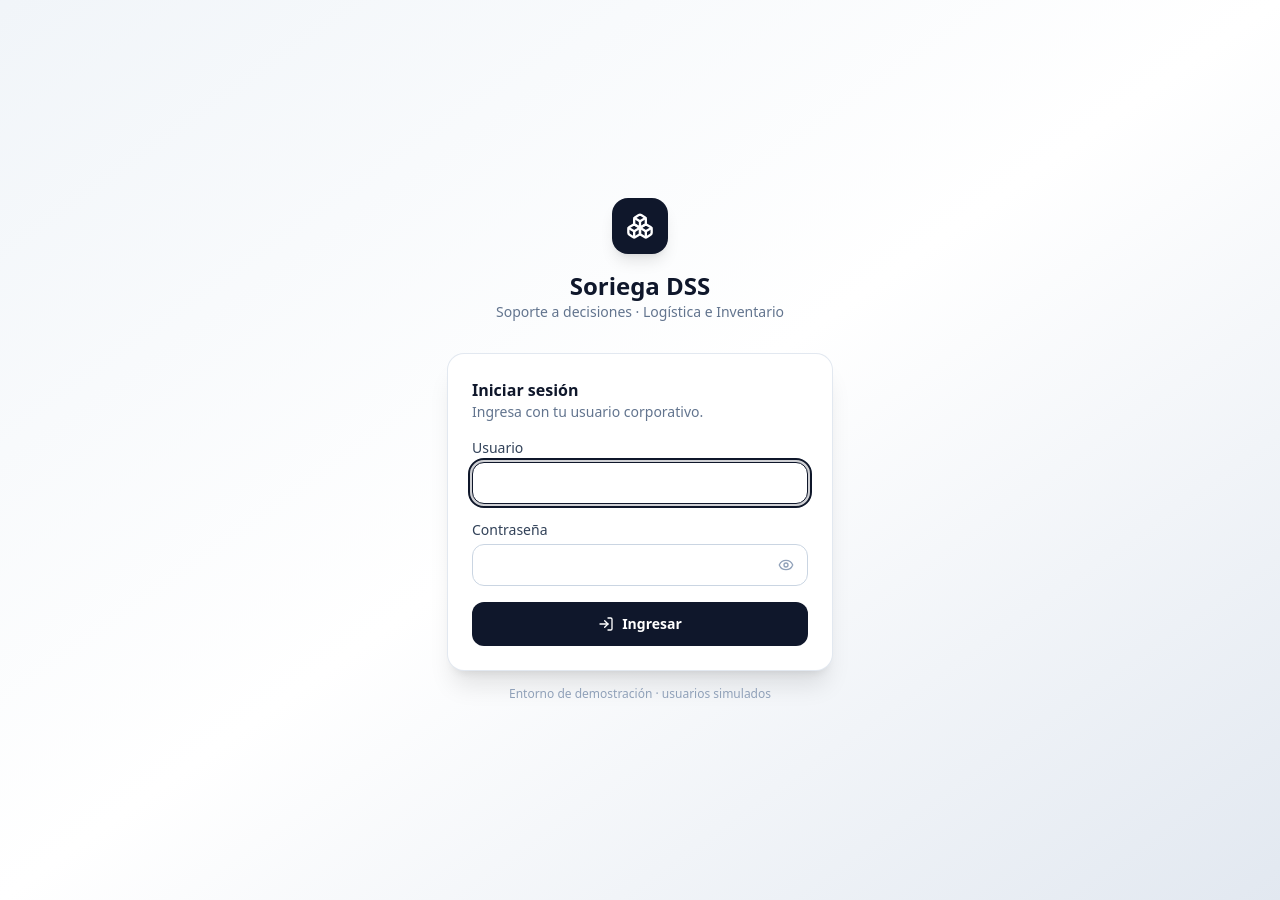
Test: Inicio de sesión › rechaza credenciales incorrectas con un mensaje que no revela si el usuario existe
The image size is (1280, 900).
In the field labelled "Usuario": x=640, y=483 [472,462,808,504], type "gerente"
In the password field labelled "Contraseña": x=640, y=565 [472,544,808,586], type "mala"
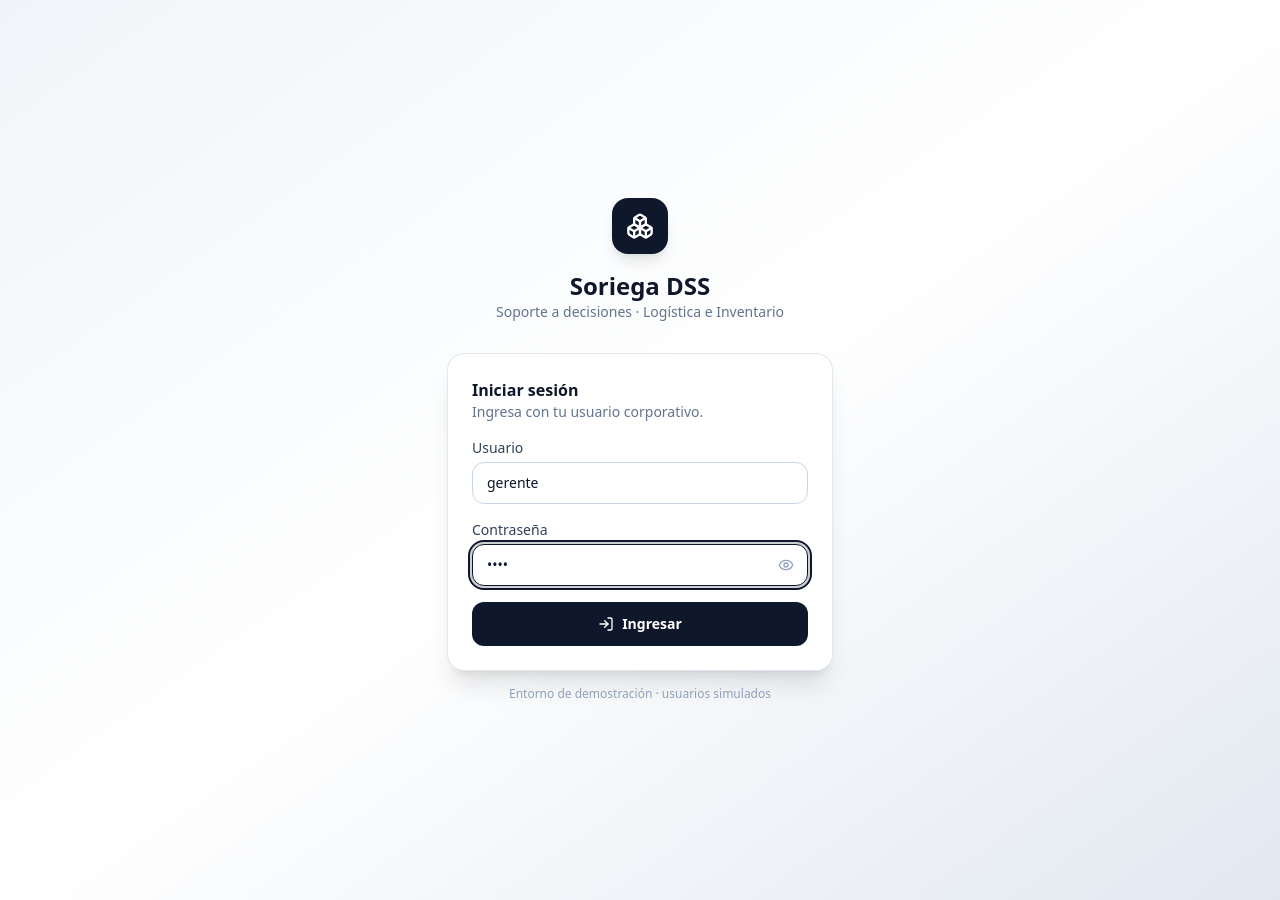
Click the button "Ingresar": x=640, y=624 [472,602,808,646]
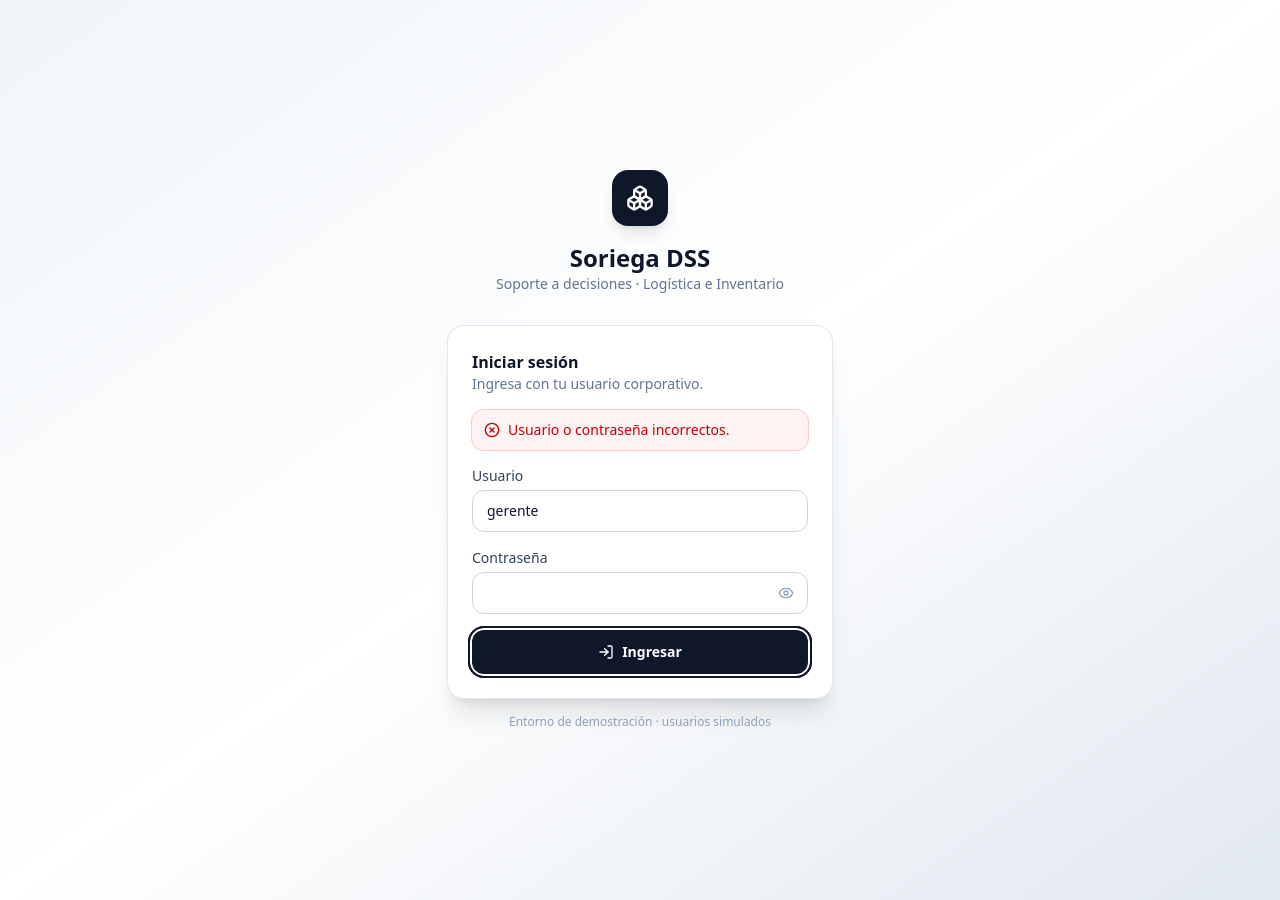
Expected: the message reads "Usuario o contraseña incorrectos.", [508,420,729,439]
Clear the field labelled "Usuario": x=640, y=511 [472,490,808,532]
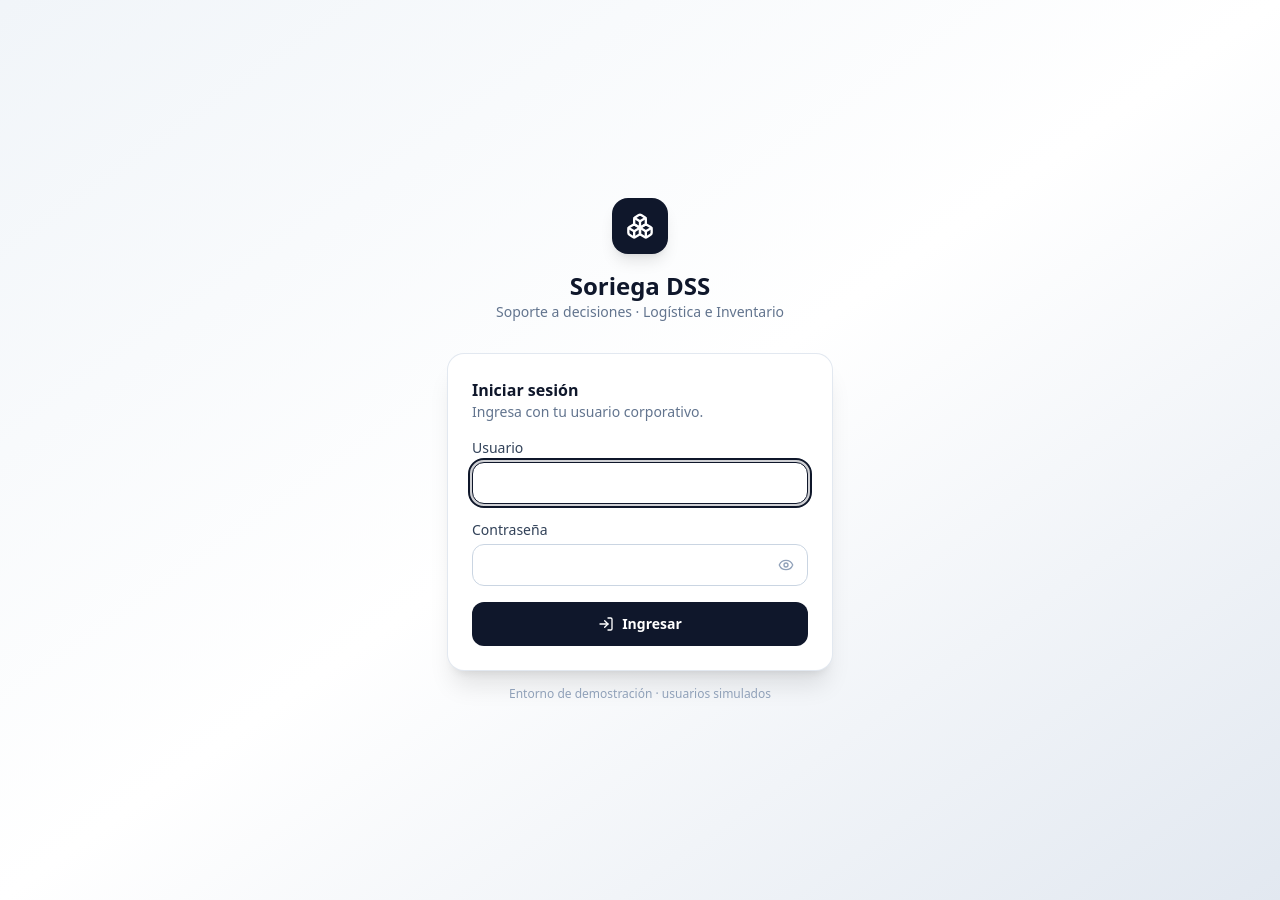
In the field labelled "Usuario": x=640, y=483 [472,462,808,504], type "nadie"
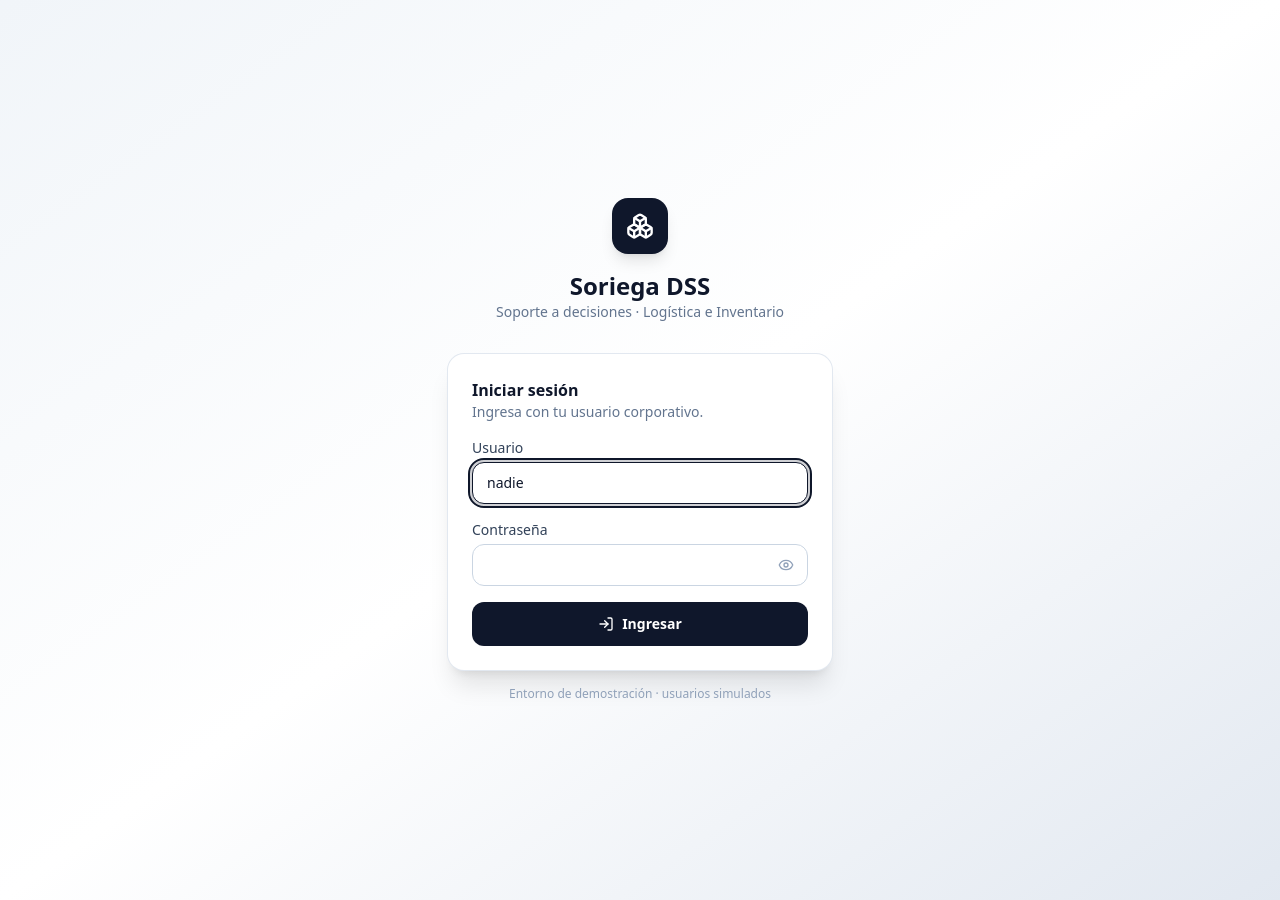
In the password field labelled "Contraseña": x=640, y=565 [472,544,808,586], type "123"
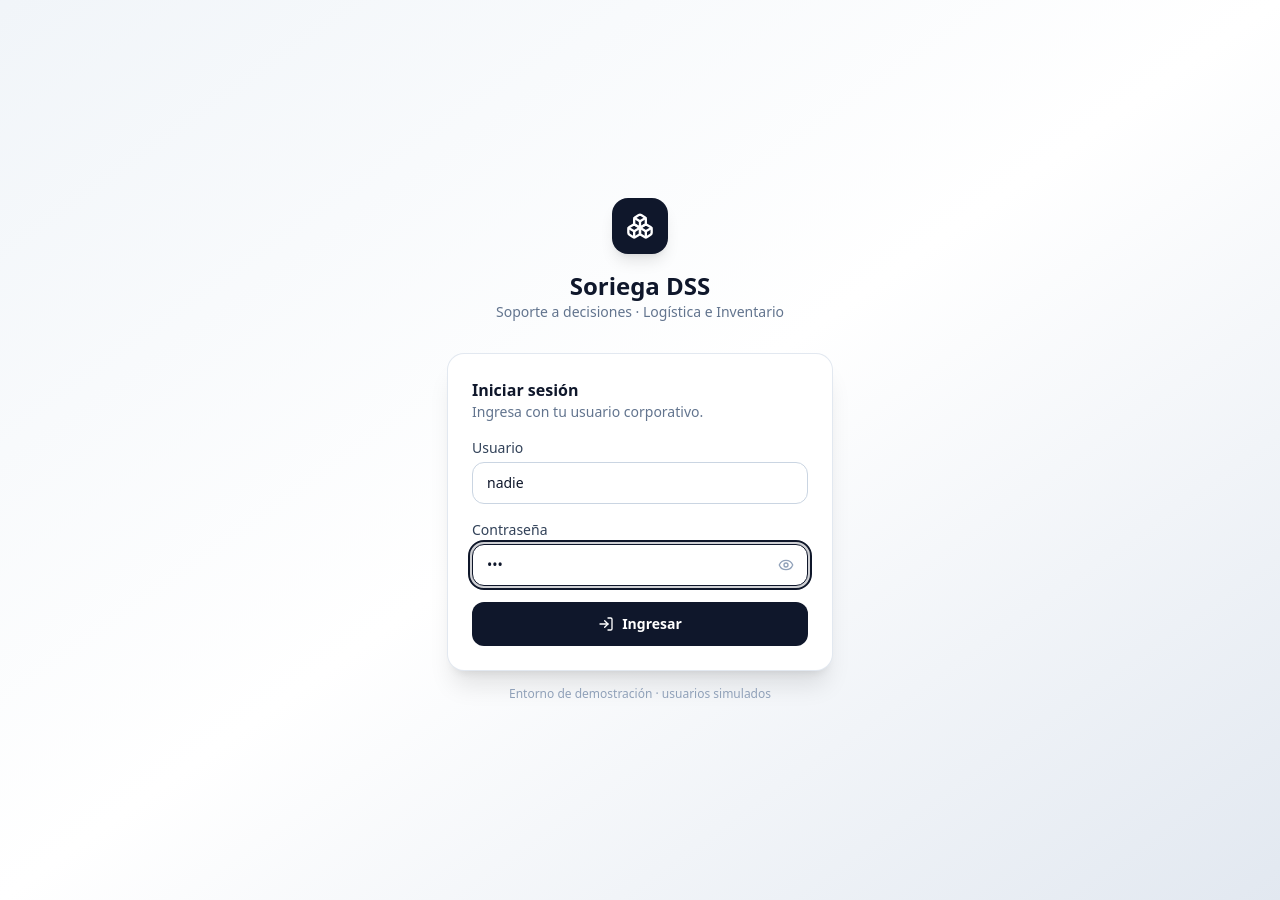
Click the button "Ingresar": x=640, y=624 [472,602,808,646]
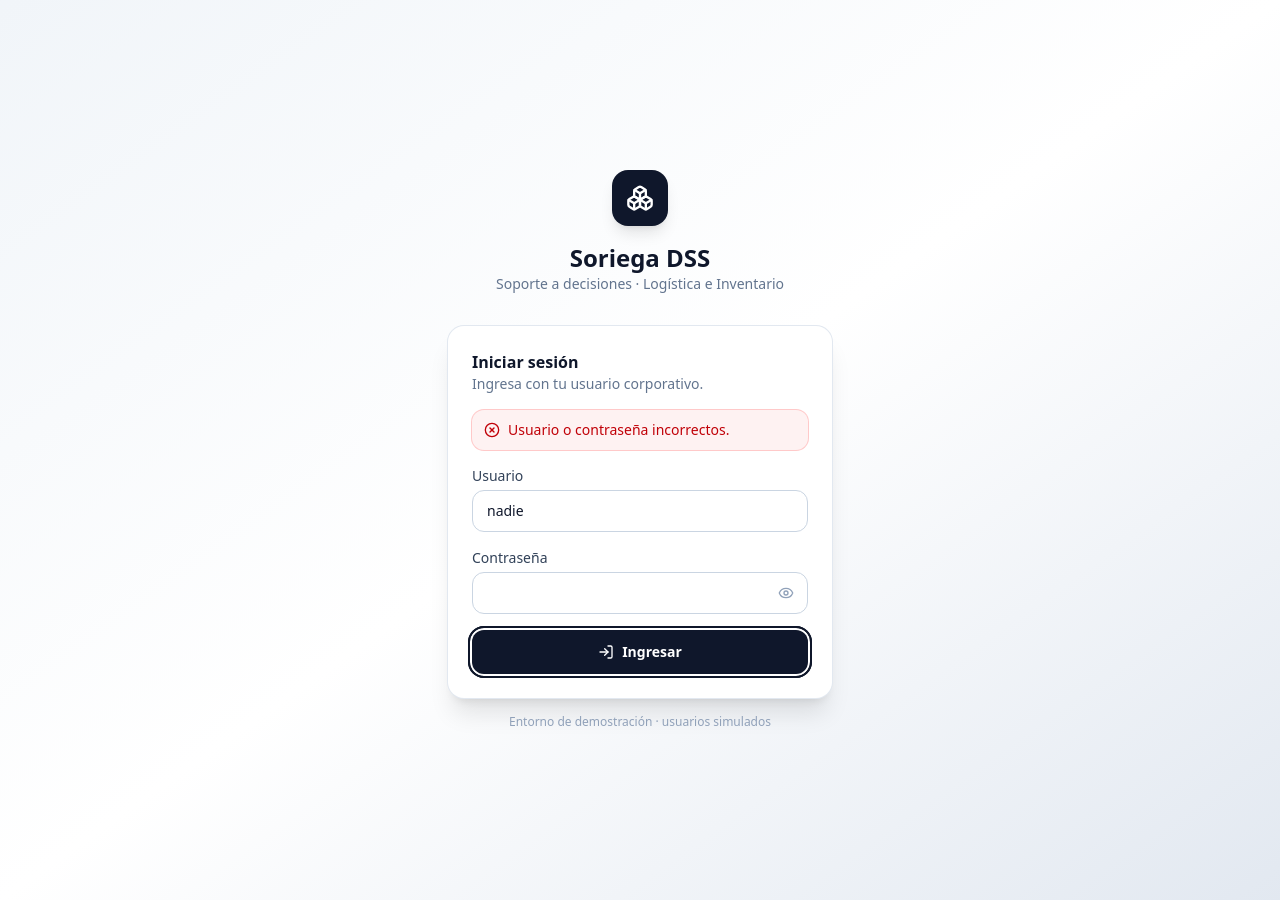
Expected: the message reads "Usuario o contraseña incorrectos.", [508,420,729,439]
